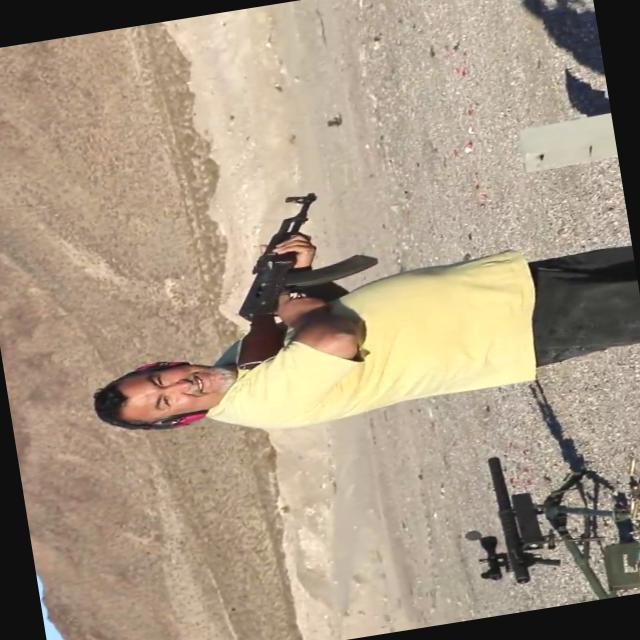long weapon: (425, 390, 625, 606), (188, 179, 384, 375)
